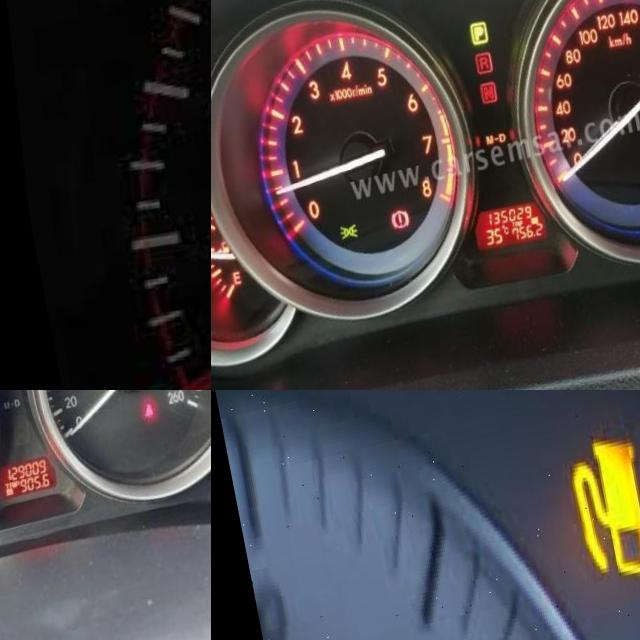Seat Belt: (128, 424, 142, 443), (636, 169, 640, 190)
